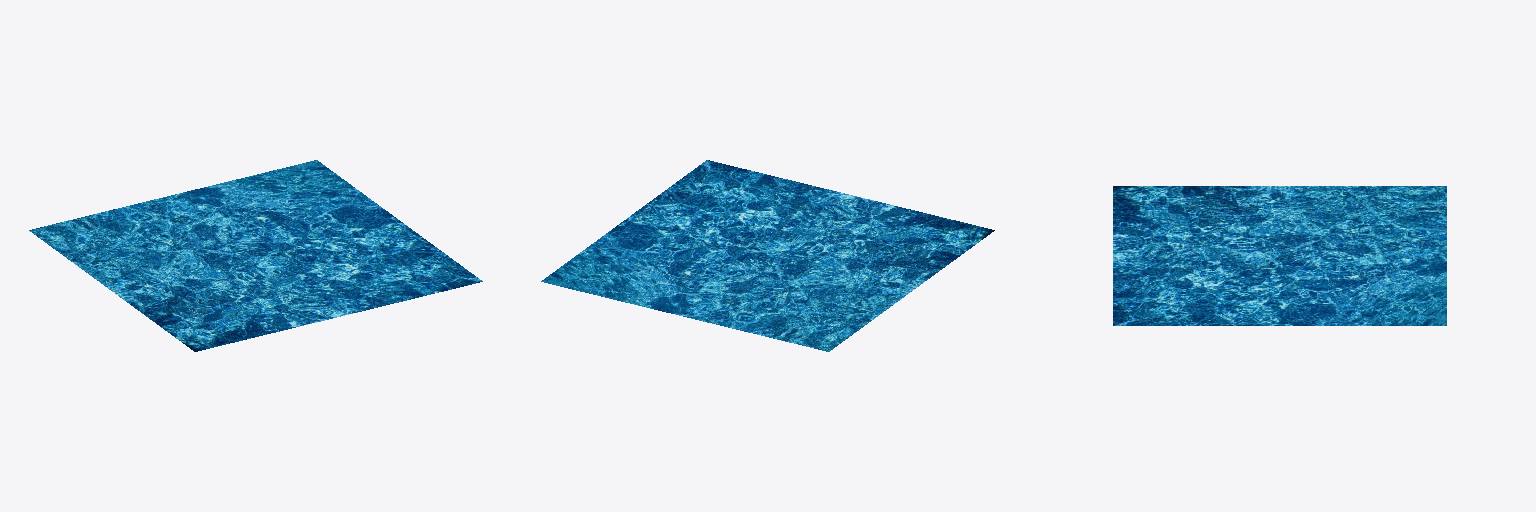
3 views of the same model, side by side, from view 1: azimuth 30°, elevation 25°; view 2: azimuth 150°, elevation 25°; view 3: azimuth 270°, elevation 25° (orthographic).
Visible parts, largest first — view 1: Plane001; view 2: Plane001; view 3: Plane001.
Boxes of the visible parts, box(x1,y1,x2,y2) form: Plane001: box(29, 160, 482, 351); Plane001: box(541, 160, 994, 351); Plane001: box(1113, 186, 1446, 325).
Bounding box in the file's own units: 20 × 0 × 20.
Materials: 1 (1 with a texture image).